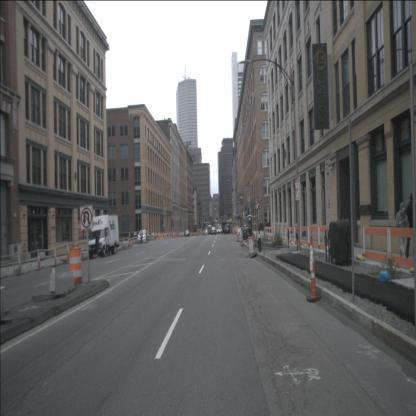human-pedestrian-adult: (395, 200, 409, 261), (405, 193, 415, 262), (94, 231, 99, 257), (106, 232, 110, 254), (146, 228, 149, 241), (140, 230, 143, 242)
movable_object-trafficcone: (306, 233, 322, 303), (68, 245, 84, 287), (246, 236, 258, 260), (18, 251, 24, 275), (37, 250, 42, 271), (54, 248, 58, 267), (74, 239, 78, 257), (240, 228, 244, 246), (236, 227, 240, 242), (67, 242, 70, 260), (81, 244, 84, 260), (122, 237, 126, 249), (127, 236, 130, 250)
vehicle-bus-rigid: (208, 225, 212, 234)
vehicle-car: (137, 229, 149, 244), (243, 226, 252, 240), (224, 225, 230, 234), (211, 226, 216, 236), (184, 229, 190, 237)
vehicle-truck: (88, 214, 120, 260), (222, 223, 227, 234)
